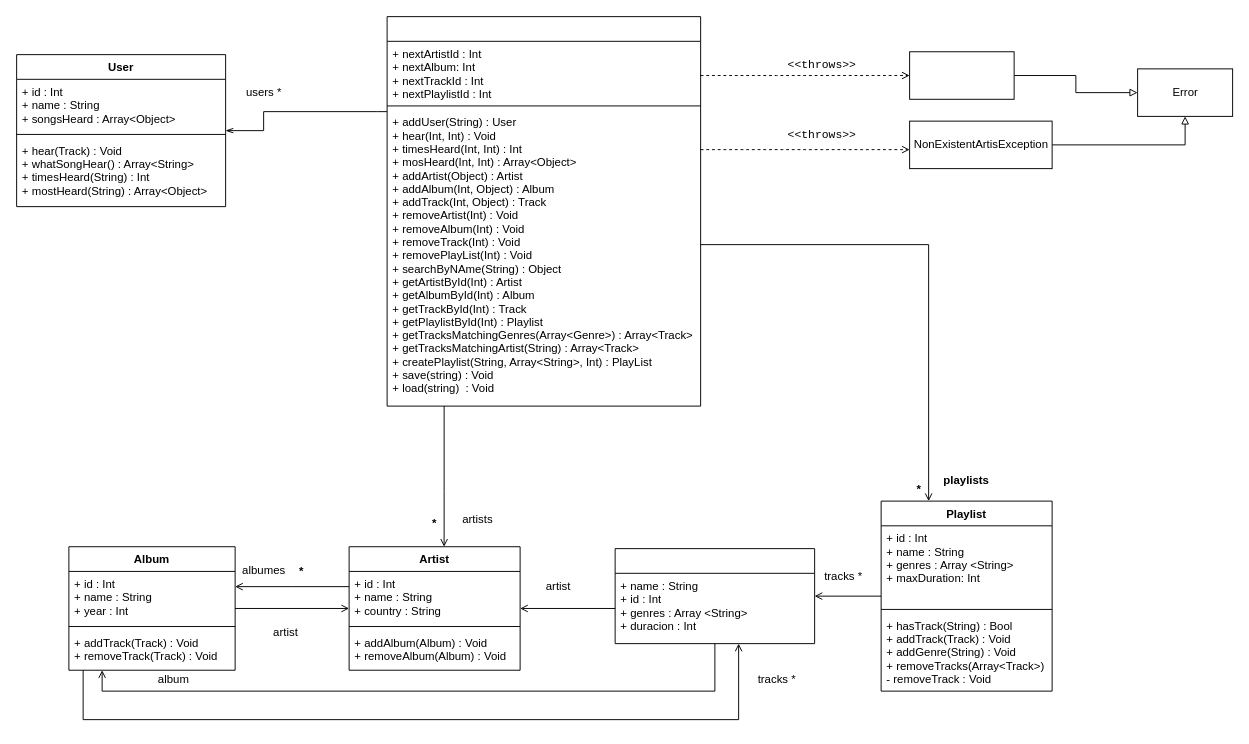
This 1249x744 diagram has some shape labels left out. The shapes that lost their labels are listed below. From the top down, each one's box as (x1, y1, x2, y2) in pixels, then its label:
(909, 51, 1014, 99): ExistException
(386, 16, 701, 406): UNQfy
(614, 548, 815, 644): Track
